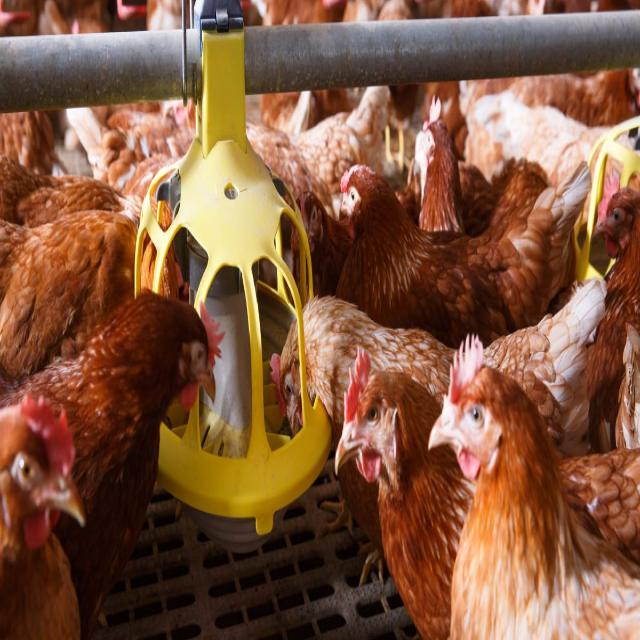Chicken: (424, 343, 640, 640), (77, 300, 219, 598), (337, 172, 541, 344), (330, 347, 444, 638), (0, 402, 91, 640), (266, 270, 338, 443), (418, 118, 475, 243)
